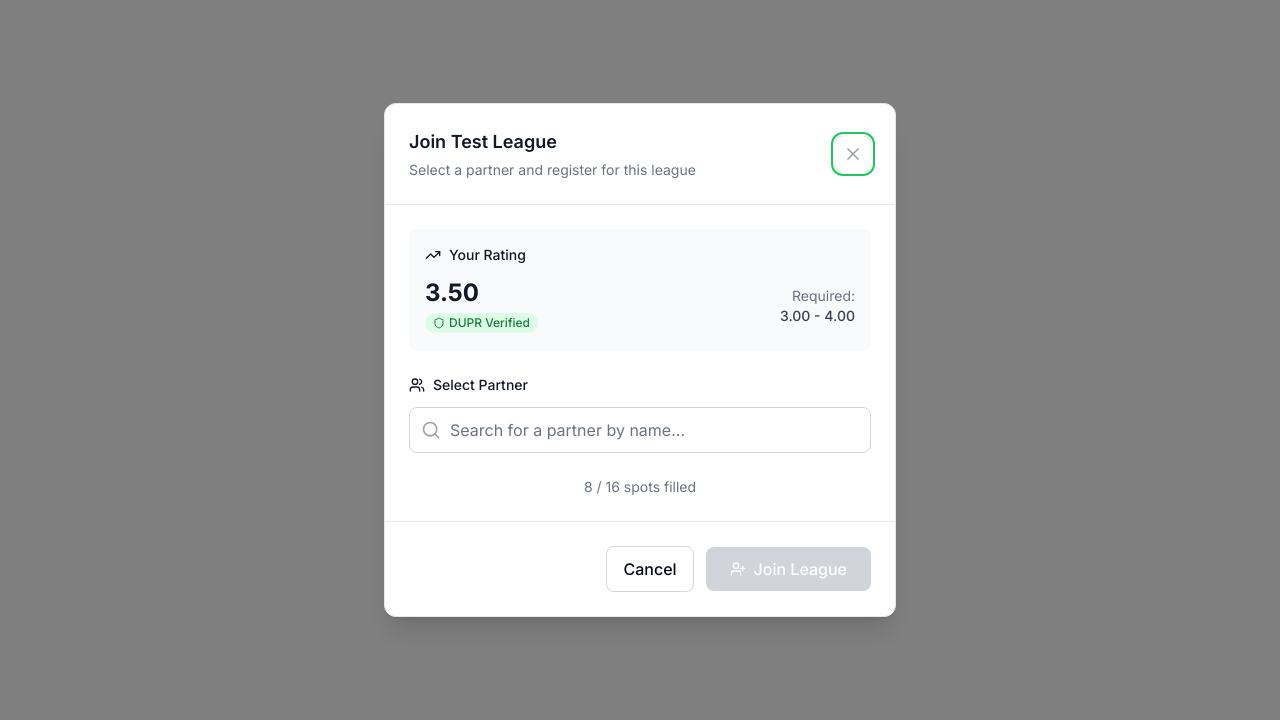
Test case: LeagueRegistrationModal › partner search › should allow removing selected partner
The image size is (1280, 720).
# Select a partner
Type "jo" into the field with placeholder "Search for a partner by name..." at (640,430), box [409, 407, 871, 453]
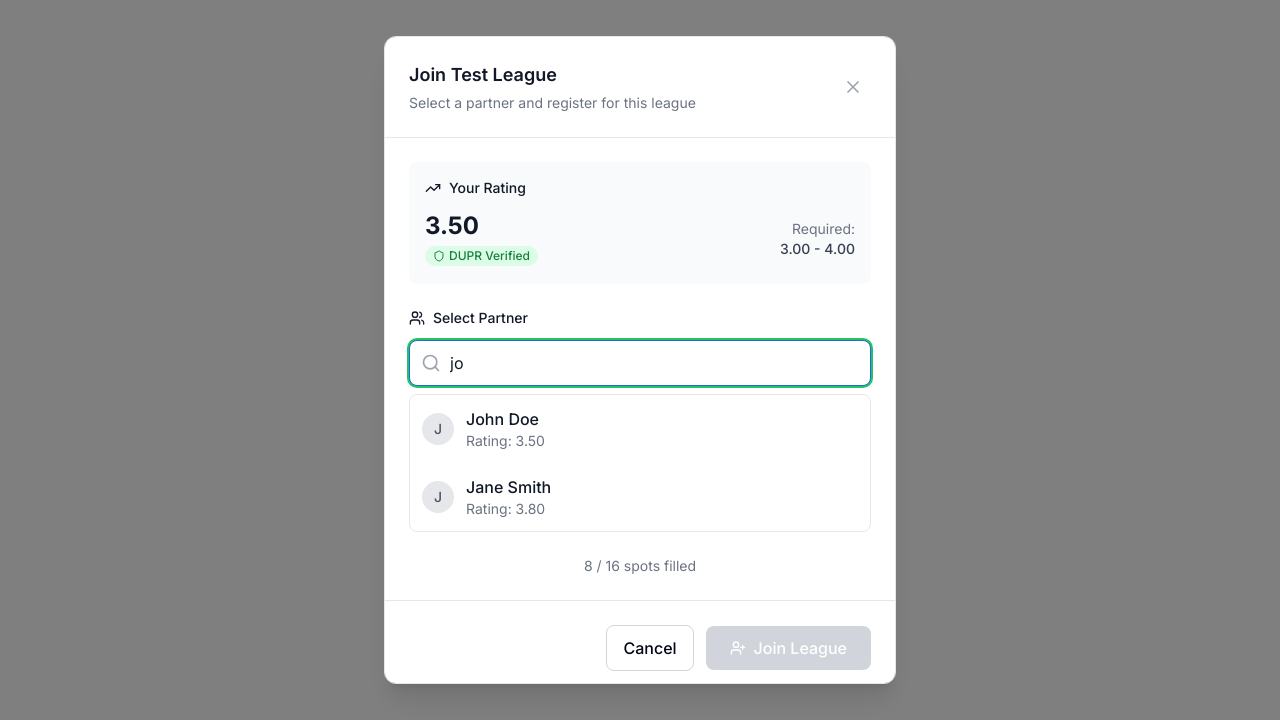
Check: the text "John Doe" is shown
Click the text "John Doe" at (502,419), box [466, 409, 539, 429]
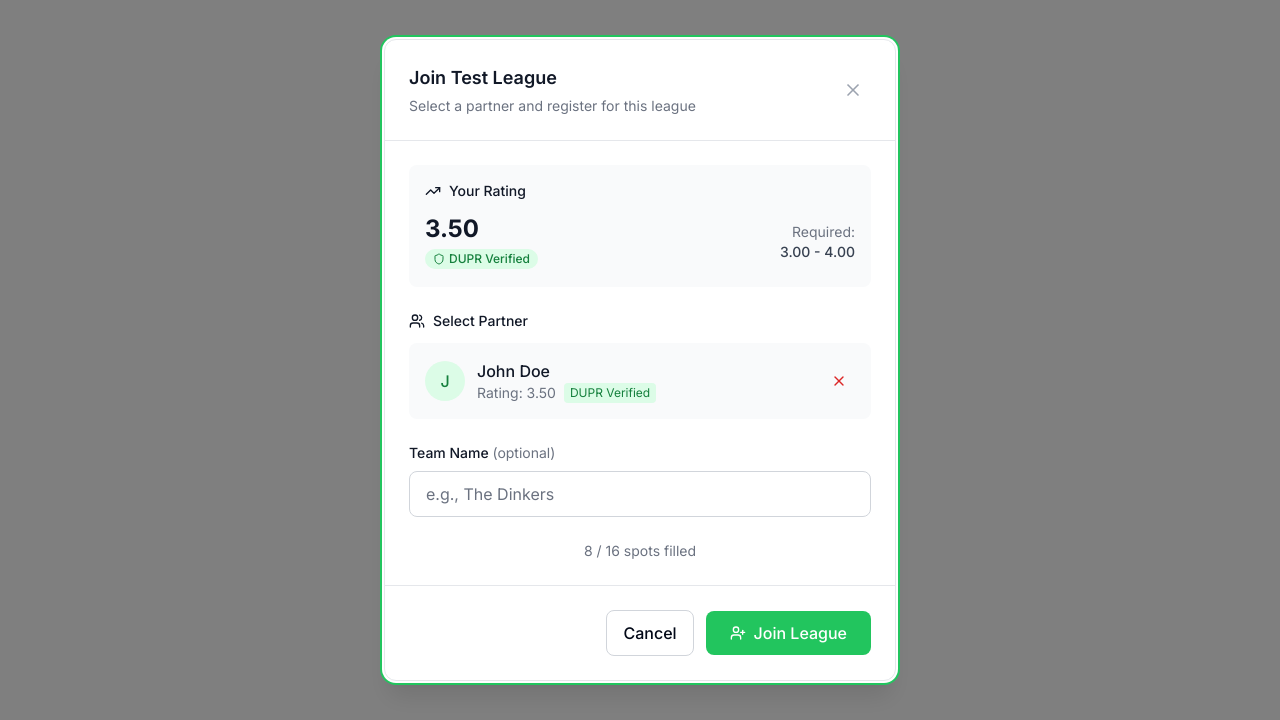
# Remove the partner
Click the button named "remove partner" at (839,381), box [823, 365, 855, 397]
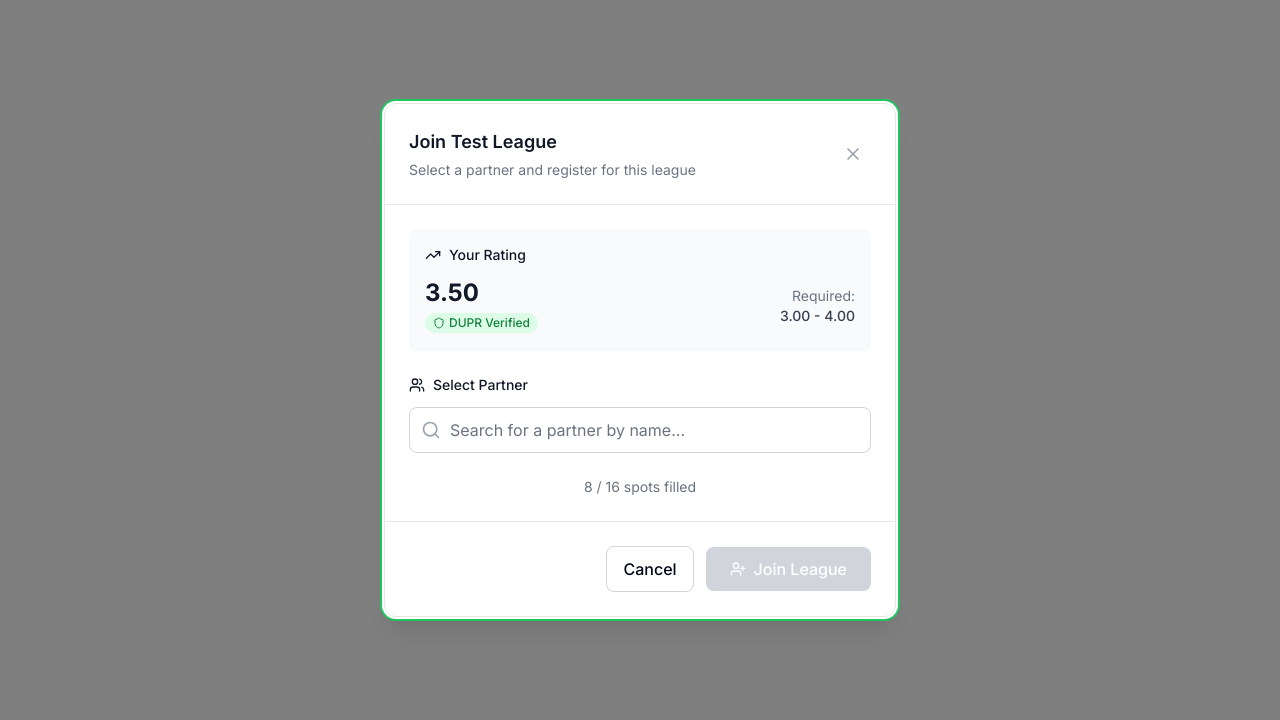
Check: the field with placeholder "Search for a partner by name..." is shown, box [409, 407, 871, 453]
